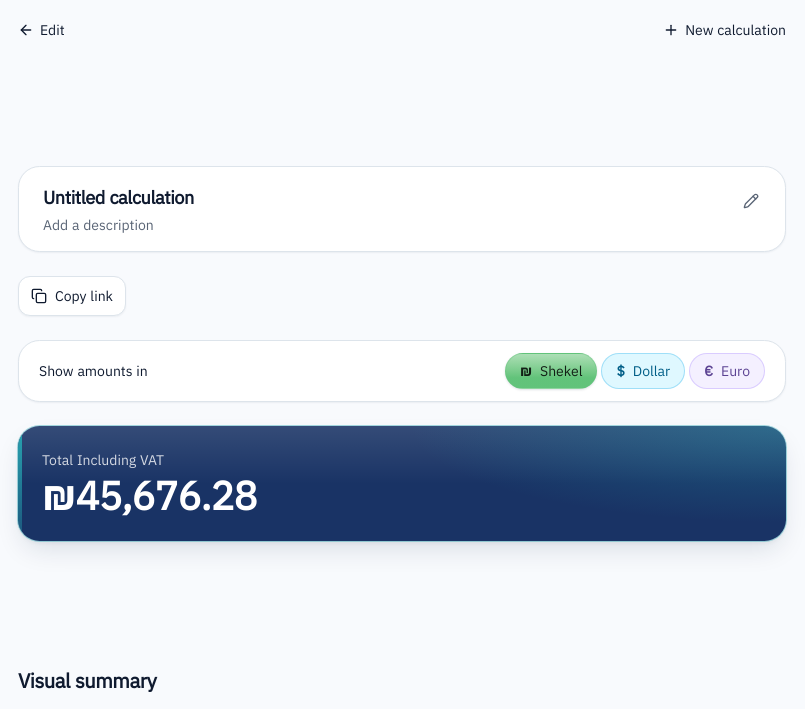
Scenario: ResultView › copies the link
The image size is (805, 709).
Click the button "Copy link" at (72,296), box [18,276,126,316]
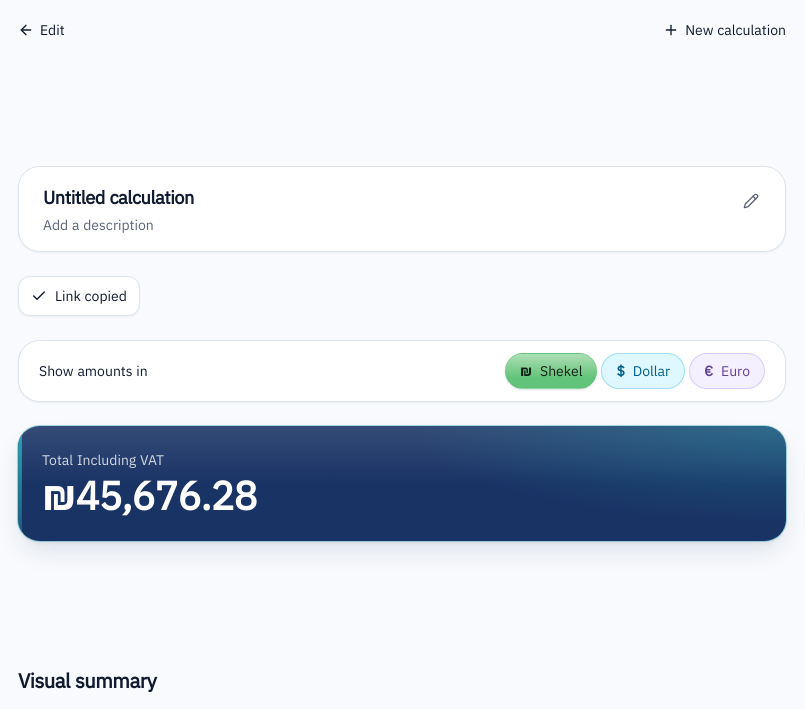
Check: the button "Link copied" is shown, box [18,276,140,316]
